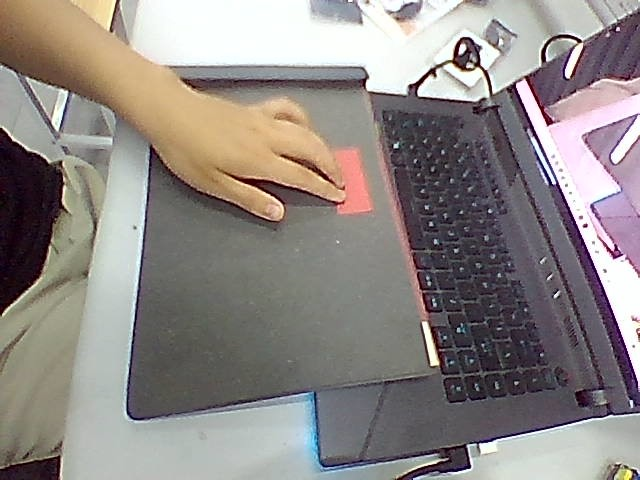card: (337, 150, 373, 213)
